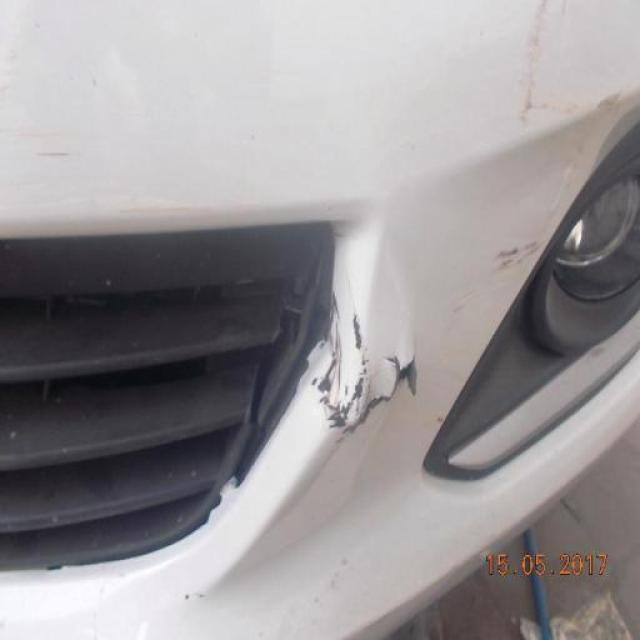scratch: (509, 2, 621, 120), (308, 298, 395, 434), (495, 236, 545, 277), (391, 355, 418, 403)
